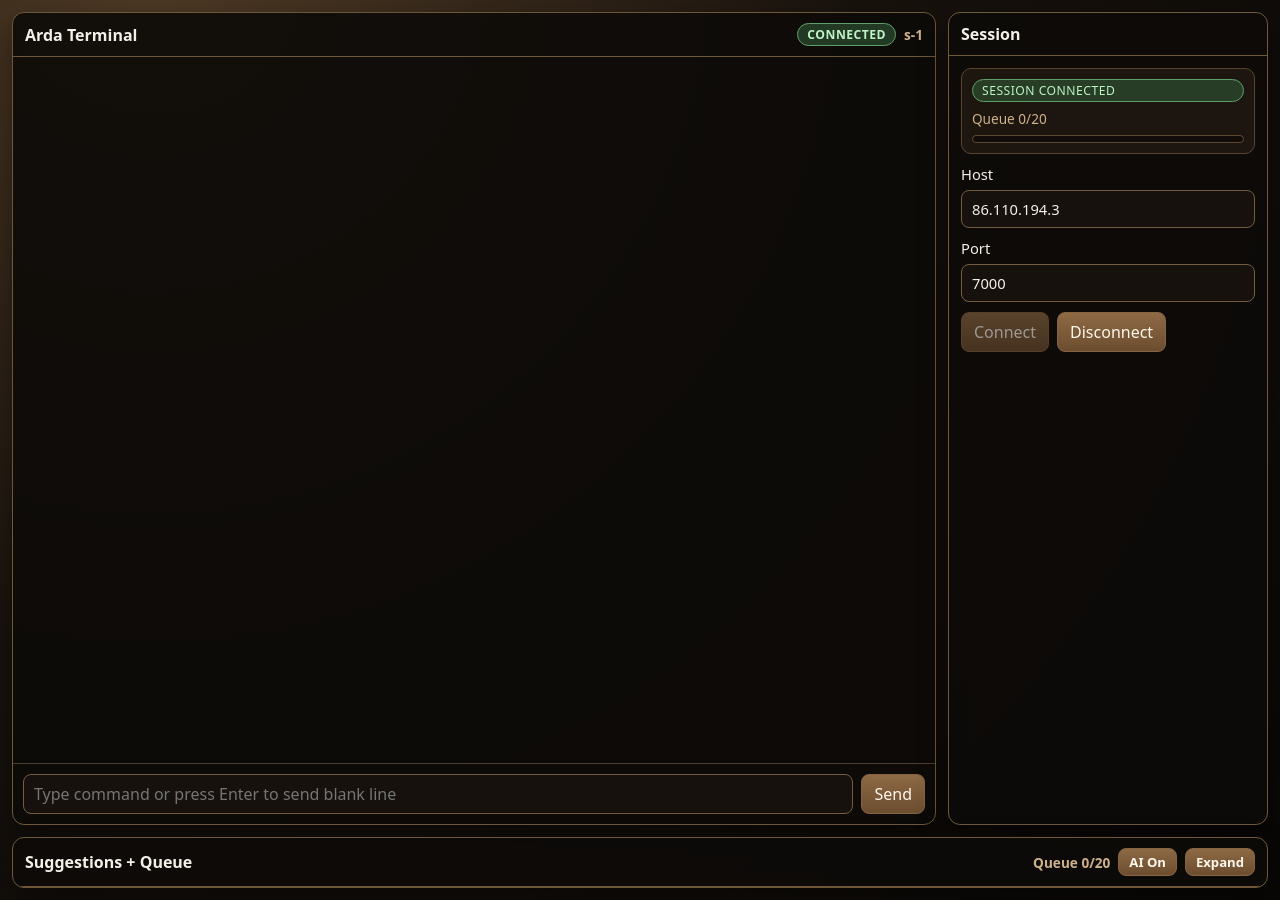
Test case: App suggestions › clears suggestion and starts a new cycle after applying a suggestion
Step 1. Click the button "Expand" → (1220,862), box [1185, 848, 1255, 876]
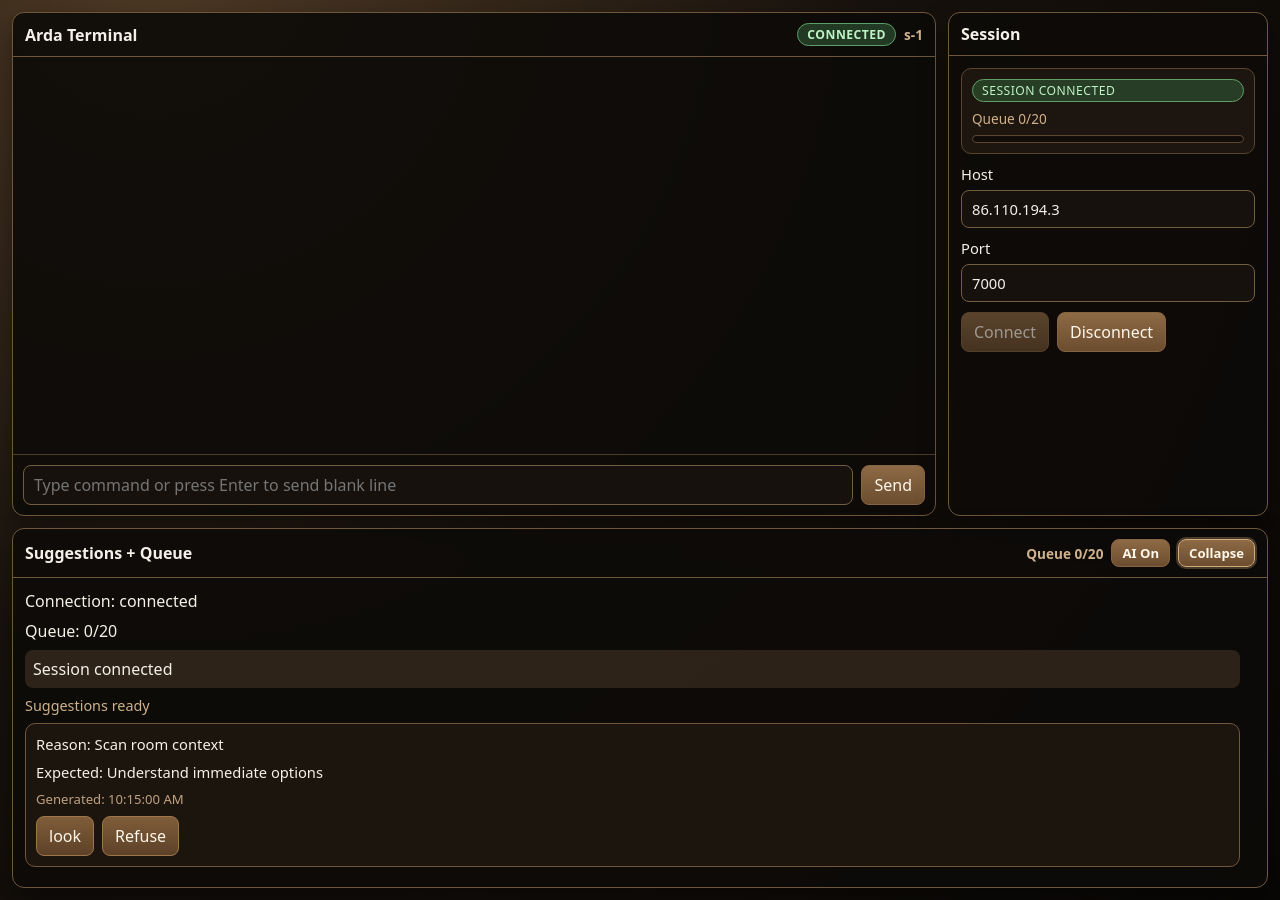
Step 2. Click the button "look" → (65,836), box [36, 816, 94, 856]
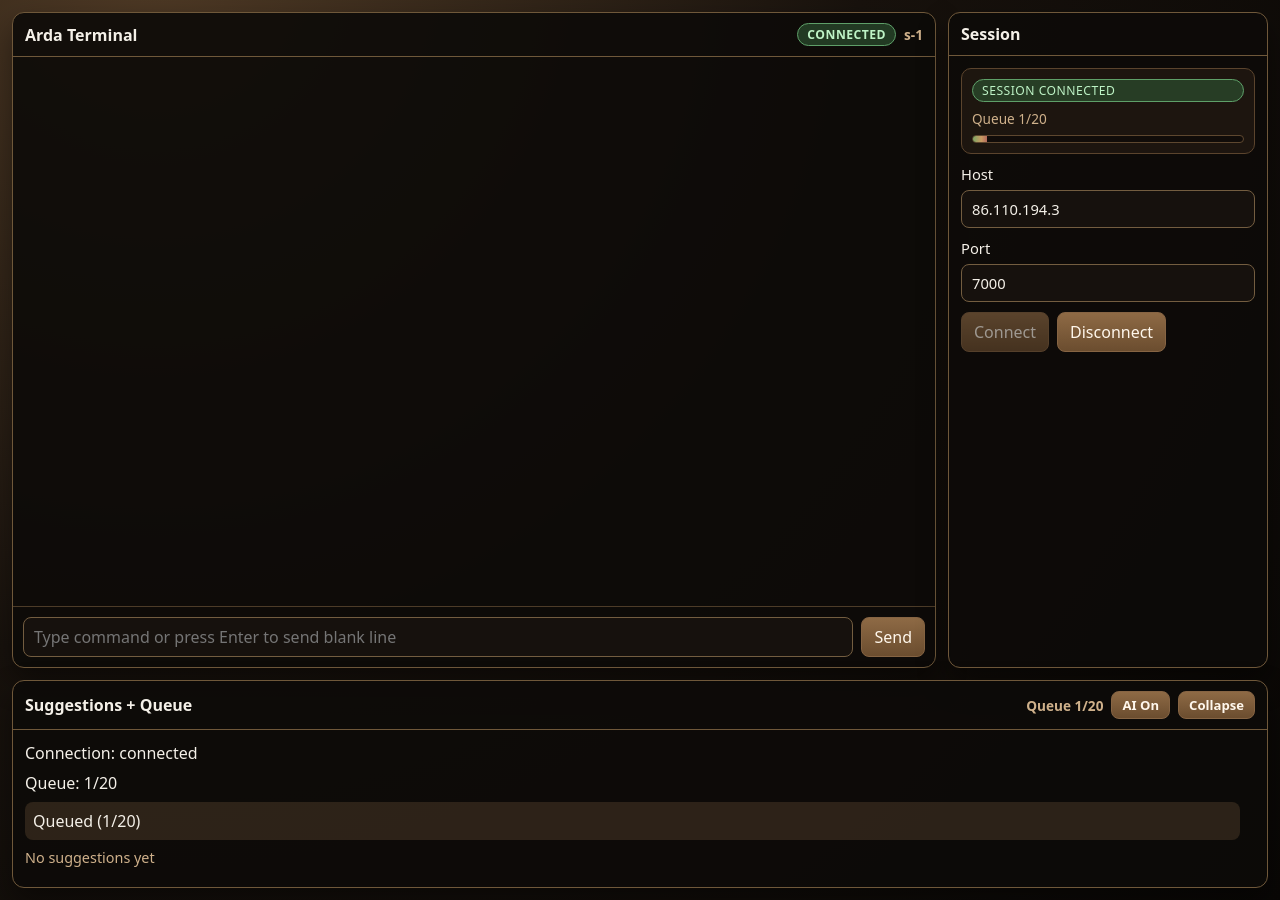
Check: the text "Reason: Scan room context" is gone
